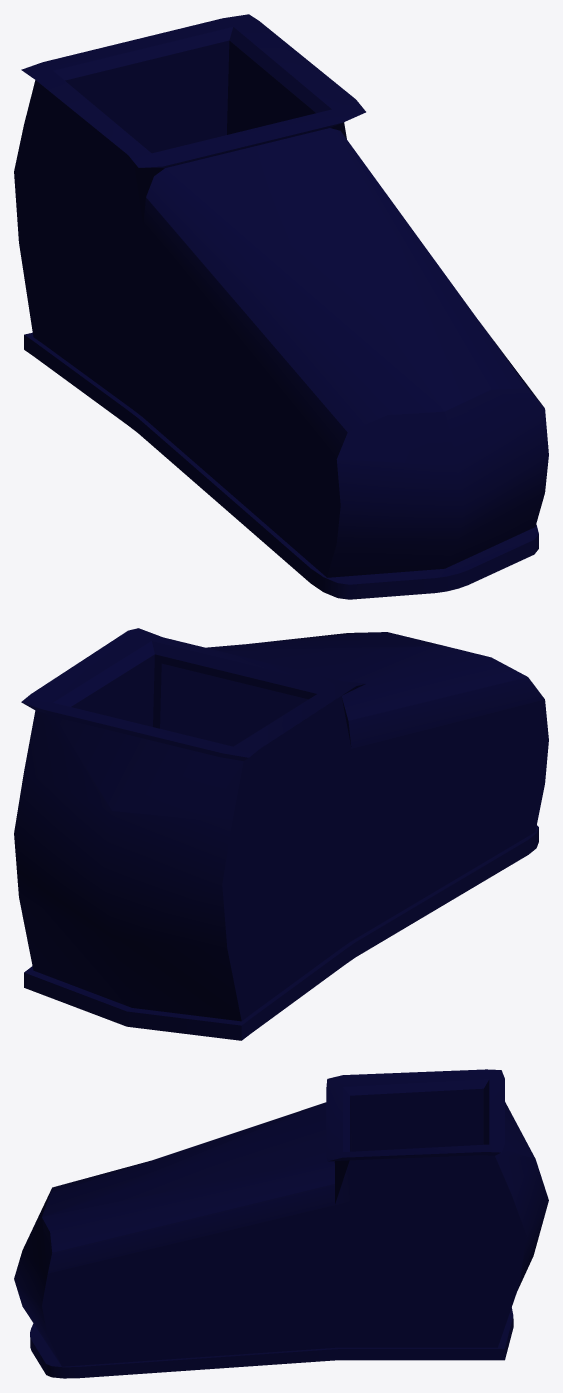
Rendered from Sepatu1.fbx.
3 renders of one model, top to bottom at view 1: azimuth 30°, elevation 25°; view 2: azimuth 150°, elevation 25°; view 3: azimuth 270°, elevation 25°, orthographic. The views are drawn at different scales.
Parts seen in each view (by area): view 1: Sapatu1_LOD0; view 2: Sapatu1_LOD0; view 3: Sapatu1_LOD0.
Part boxes in pixels (x1,y1,x2,y2): Sapatu1_LOD0: (14,14,548,599); Sapatu1_LOD0: (14,628,548,1040); Sapatu1_LOD0: (14,1069,548,1378).
Size of what is drawn, in the model's own units: 21.23 by 28.16 by 58.18.
Materials: 1 (1 with a texture image).
